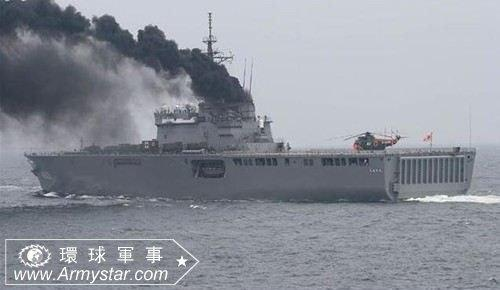smoke: (1, 1, 246, 94)
